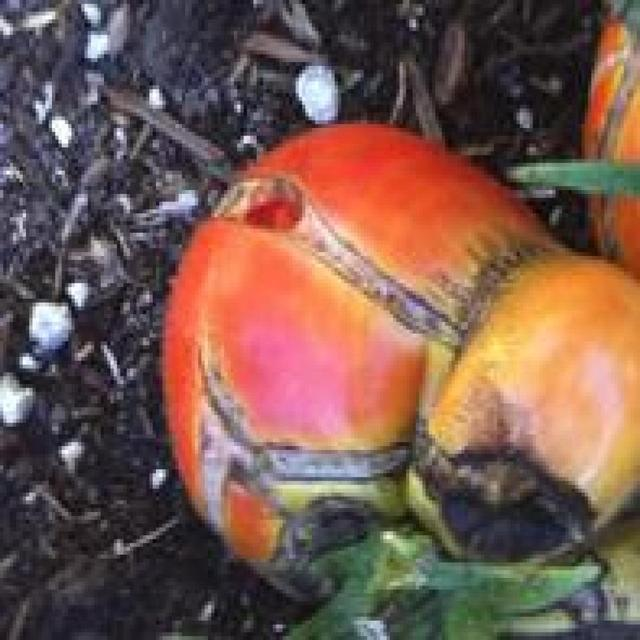Cracking Fruit: (131, 120, 324, 312)
